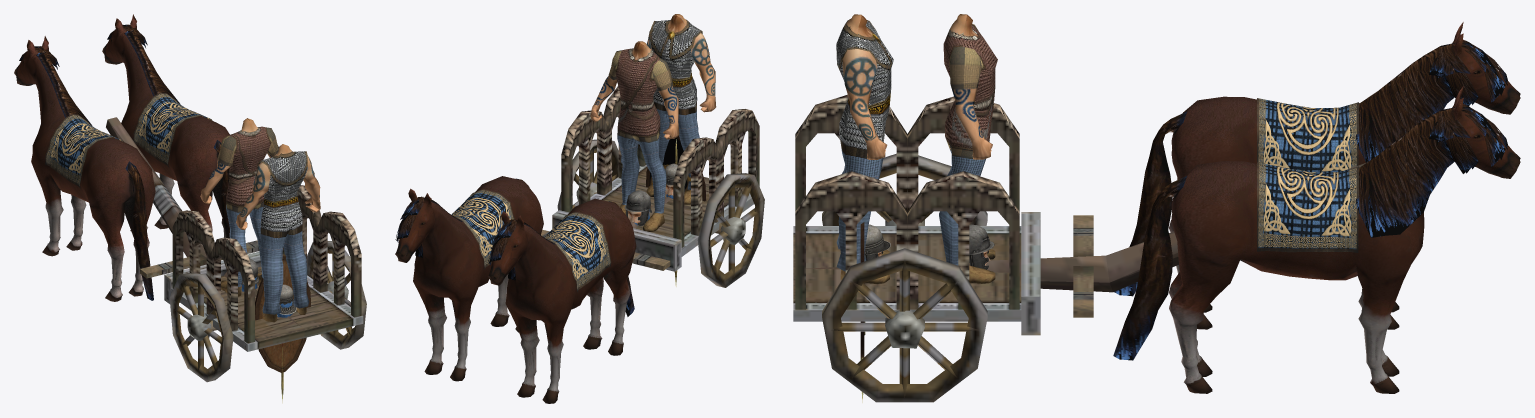
Rendered from chariot.glb.
The picture shows the model from 3 angles, left to right: view 1: azimuth 30°, elevation 25°; view 2: azimuth 150°, elevation 25°; view 3: azimuth 270°, elevation 25°; orthographic projection. The views are drawn at different scales.
Visible parts, largest first — view 1: chariot_part0, chariot_part1, chariot_part12, chariot_part5, chariot_part9, chariot_part2, chariot_part6, chariot_part23, chariot_part4, chariot_part7, chariot_part3, chariot_part8 (+1 smaller); view 2: chariot_part0, chariot_part1, chariot_part5, chariot_part9, chariot_part12, chariot_part2, chariot_part6, chariot_part3, chariot_part7, chariot_part11, chariot_part23; view 3: chariot_part0, chariot_part5, chariot_part7, chariot_part6, chariot_part12, chariot_part9, chariot_part3, chariot_part1, chariot_part2, chariot_part8, chariot_part4, chariot_part11.
Boxes of the visible parts, x1=… form: chariot_part0: x1=106, y1=117, x2=366, y2=382; chariot_part1: x1=14, y1=36, x2=155, y2=301; chariot_part12: x1=236, y1=144, x2=320, y2=322; chariot_part5: x1=102, y1=14, x2=229, y2=237; chariot_part9: x1=200, y1=118, x2=278, y2=296; chariot_part2: x1=45, y1=114, x2=123, y2=188; chariot_part6: x1=133, y1=92, x2=212, y2=166; chariot_part23: x1=255, y1=254, x2=310, y2=372; chariot_part4: x1=125, y1=161, x2=153, y2=300; chariot_part7: x1=107, y1=24, x2=180, y2=104; chariot_part3: x1=19, y1=46, x2=92, y2=125; chariot_part8: x1=213, y1=140, x2=229, y2=238; chariot_part0: x1=541, y1=86, x2=764, y2=287; chariot_part1: x1=487, y1=198, x2=636, y2=403; chariot_part5: x1=395, y1=176, x2=543, y2=381; chariot_part9: x1=590, y1=41, x2=679, y2=231; chariot_part12: x1=646, y1=14, x2=716, y2=204; chariot_part2: x1=544, y1=212, x2=611, y2=292; chariot_part6: x1=451, y1=189, x2=514, y2=269; chariot_part3: x1=488, y1=219, x2=554, y2=280; chariot_part7: x1=395, y1=196, x2=462, y2=257; chariot_part11: x1=624, y1=190, x2=651, y2=226; chariot_part23: x1=646, y1=135, x2=706, y2=201; chariot_part0: x1=793, y1=94, x2=1366, y2=402; chariot_part5: x1=1169, y1=86, x2=1520, y2=393; chariot_part7: x1=1356, y1=105, x2=1508, y2=237; chariot_part6: x1=1257, y1=162, x2=1358, y2=252; chariot_part12: x1=836, y1=14, x2=893, y2=283; chariot_part9: x1=939, y1=14, x2=997, y2=283; chariot_part3: x1=1356, y1=41, x2=1508, y2=162; chariot_part1: x1=1169, y1=22, x2=1520, y2=329; chariot_part2: x1=1257, y1=98, x2=1358, y2=172; chariot_part8: x1=1113, y1=176, x2=1186, y2=360; chariot_part4: x1=1114, y1=111, x2=1187, y2=296; chariot_part11: x1=969, y1=224, x2=994, y2=269.
Size of the model in its own units: 1.07 by 1.65 by 2.8.
Materials: 15 (15 with a texture image).
